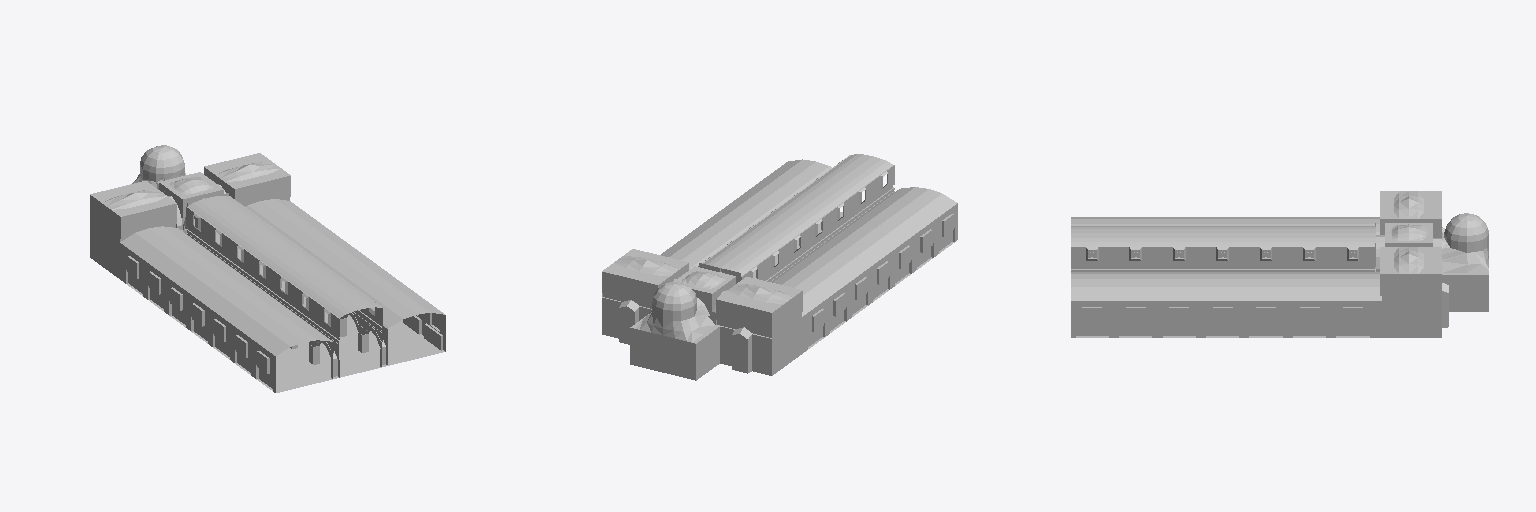
The model's file is SanPanchito.obj.
The picture shows the model from 3 angles: view 1: azimuth 30°, elevation 25°; view 2: azimuth 150°, elevation 25°; view 3: azimuth 270°, elevation 25°; orthographic projection.
Parts seen in each view (by area): view 1: Sphere.003_Sphere.005; view 2: Sphere.003_Sphere.005; view 3: Sphere.003_Sphere.005.
Part boxes in pixels (x1,y1,x2,y2): Sphere.003_Sphere.005: (90,145,445,392); Sphere.003_Sphere.005: (602,154,957,380); Sphere.003_Sphere.005: (1071,191,1488,337).
Bounding box in the file's own units: 50.33 × 22.01 × 104.